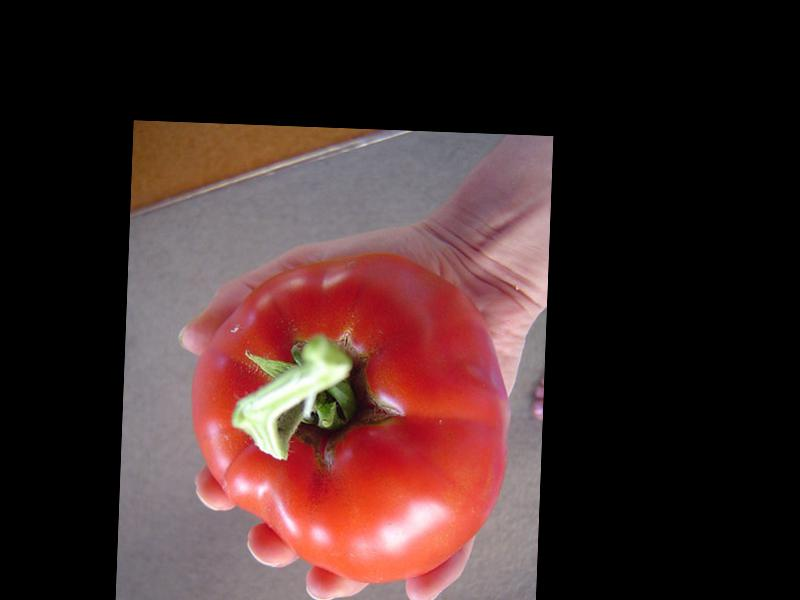Tomato: (184, 247, 514, 587)
